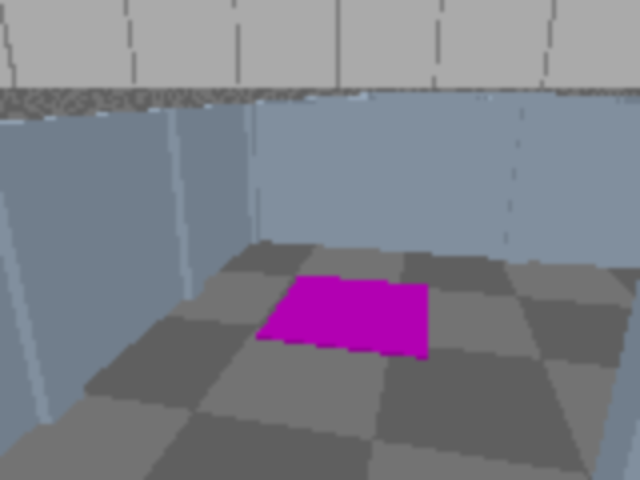goal_zone: (256, 274, 429, 360)
